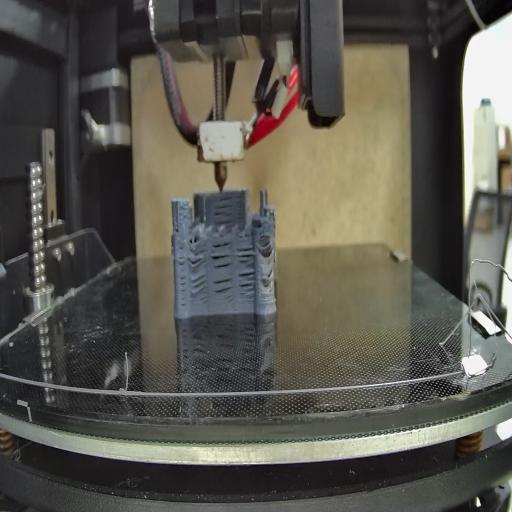cracks: (212, 197, 236, 225), (211, 242, 233, 269), (213, 277, 235, 302), (238, 271, 256, 297), (178, 252, 186, 310), (236, 244, 254, 266), (192, 275, 208, 298), (189, 248, 205, 268), (259, 239, 274, 259), (264, 269, 274, 288), (174, 217, 181, 236)
